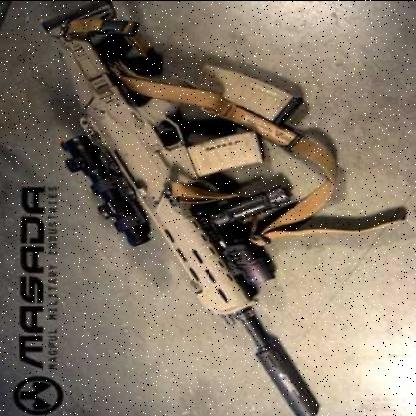rifle: (24, 1, 333, 414)
